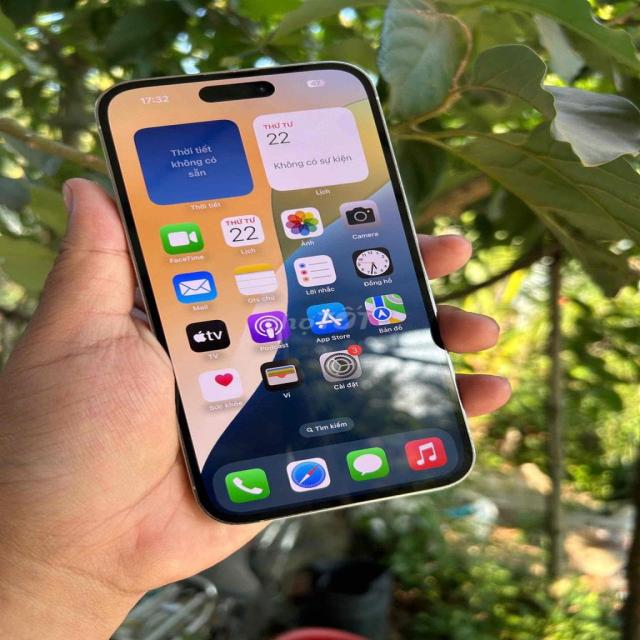gen_14: (79, 55, 482, 522)
